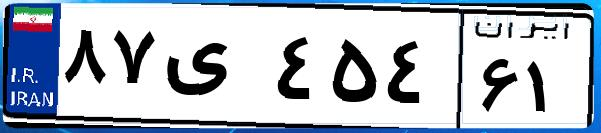1: (525, 38, 570, 115)
4: (270, 28, 330, 110), (385, 28, 445, 110)
5: (330, 28, 385, 110)
6: (475, 38, 525, 113)
7: (110, 28, 158, 98)
8: (57, 26, 110, 100)
ی: (158, 20, 270, 120)
